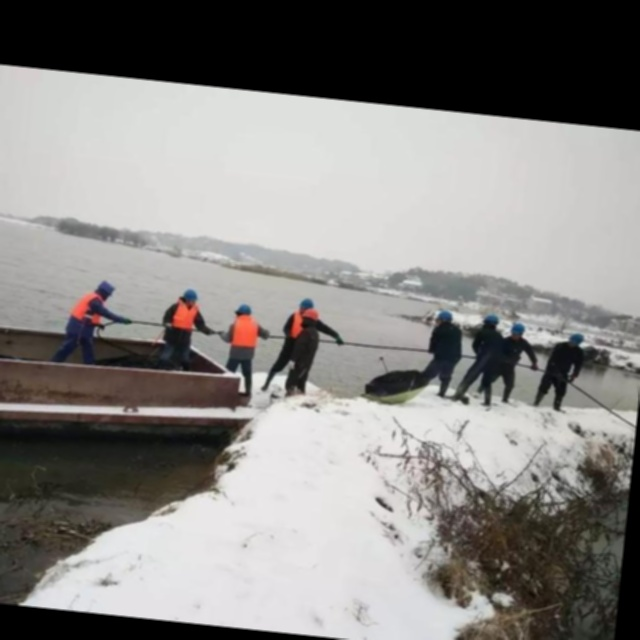Con_Casco: (181, 288, 200, 307), (232, 302, 253, 319), (508, 322, 525, 340)
